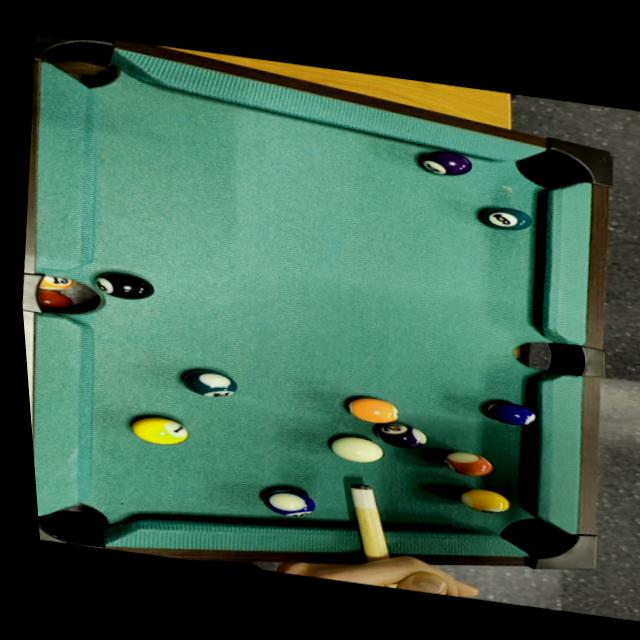cue ball: (321, 430, 390, 465)
other: (123, 411, 194, 449), (414, 143, 484, 180), (455, 480, 517, 520), (93, 266, 160, 302), (173, 365, 241, 400), (257, 483, 321, 520), (473, 200, 542, 234), (479, 398, 545, 430), (342, 395, 405, 427), (371, 419, 433, 450), (438, 448, 495, 479)
